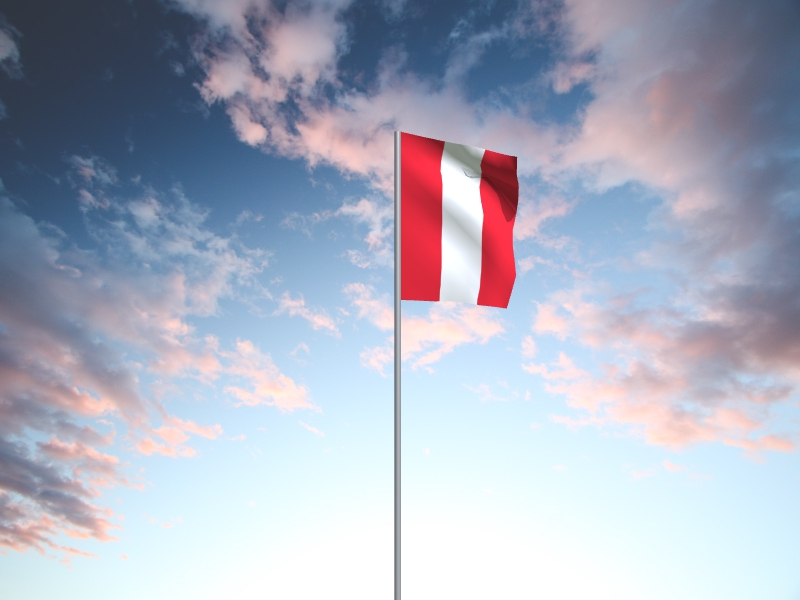at: (402, 133, 522, 310)
